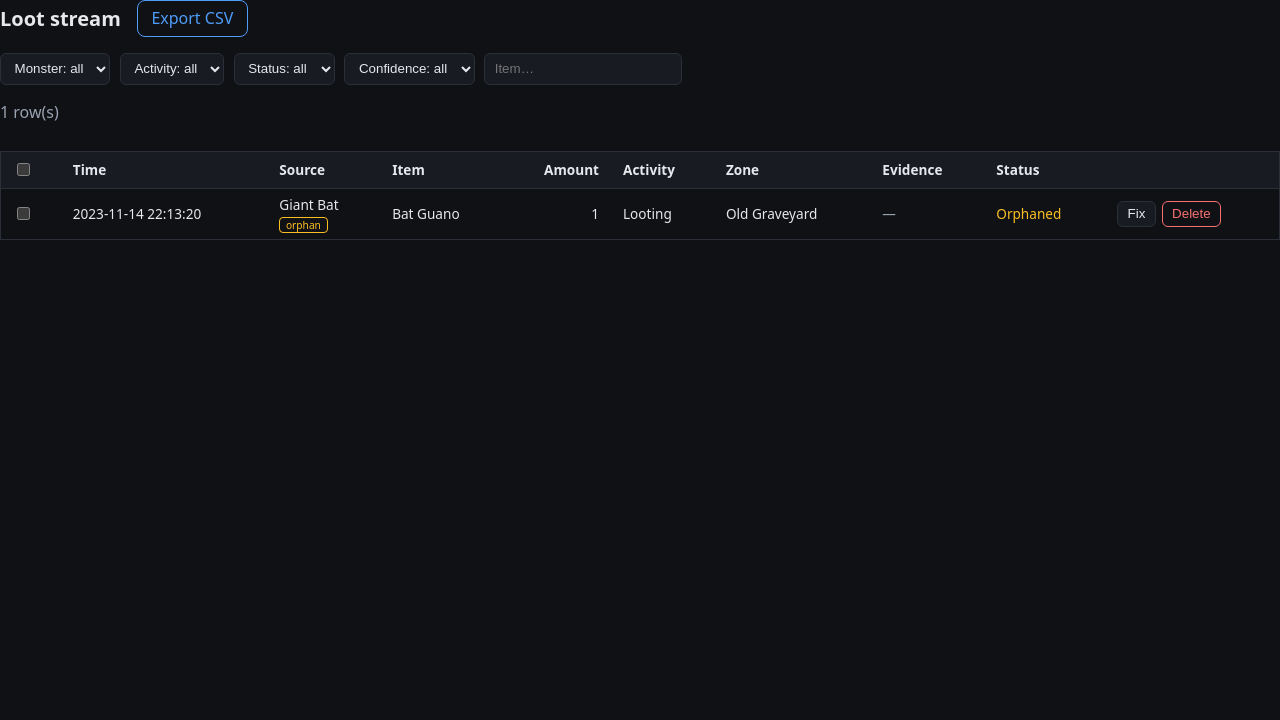
Test case: LootPage › deletes a single row after confirmation
The width and height of the screenshot is (1280, 720).
Expected: the text "Bat Guano" is shown, [380,188,504,240]
What coordinates should you click on to do the following:
click the button "Delete"
I would click on:
 (1191, 214)
Its box is [1162,201,1221,227].
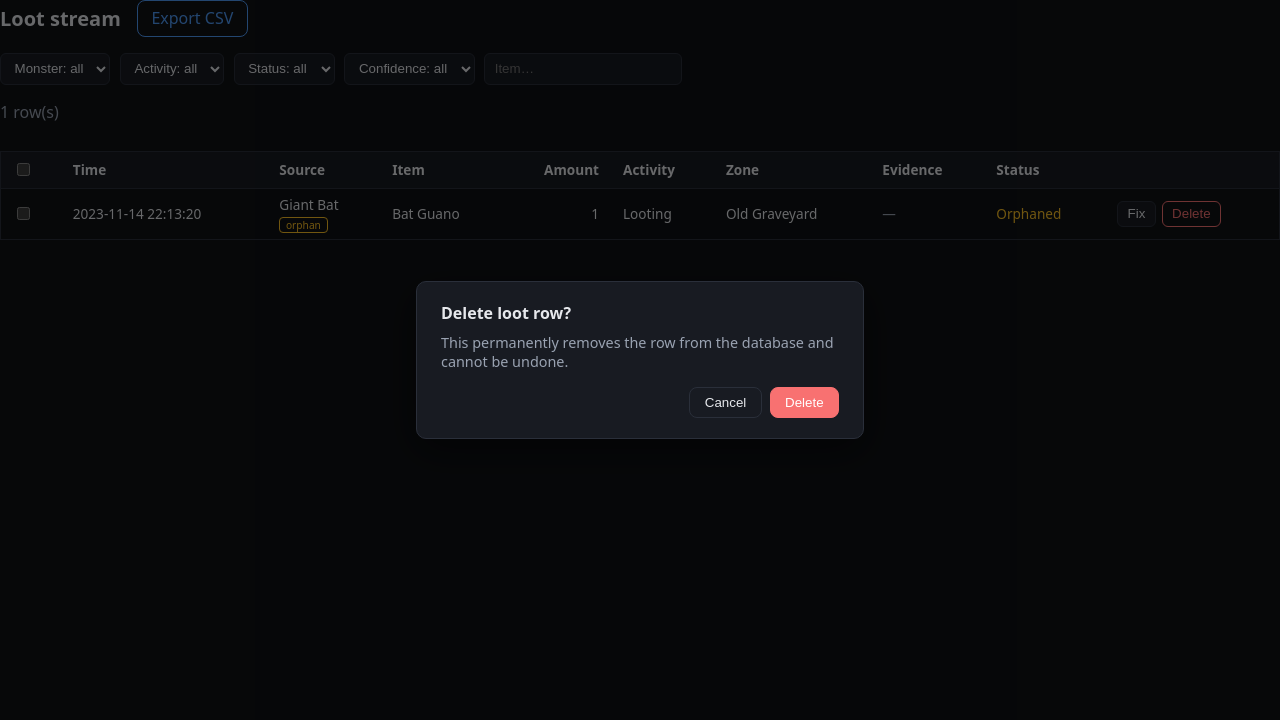
Now the heading "Delete loot row?" is shown, box [441,302,571,324]
What coordinates should you click on to do the following:
click the button "Delete"
I would click on:
 (804, 403)
Its box is [770,387,839,418].
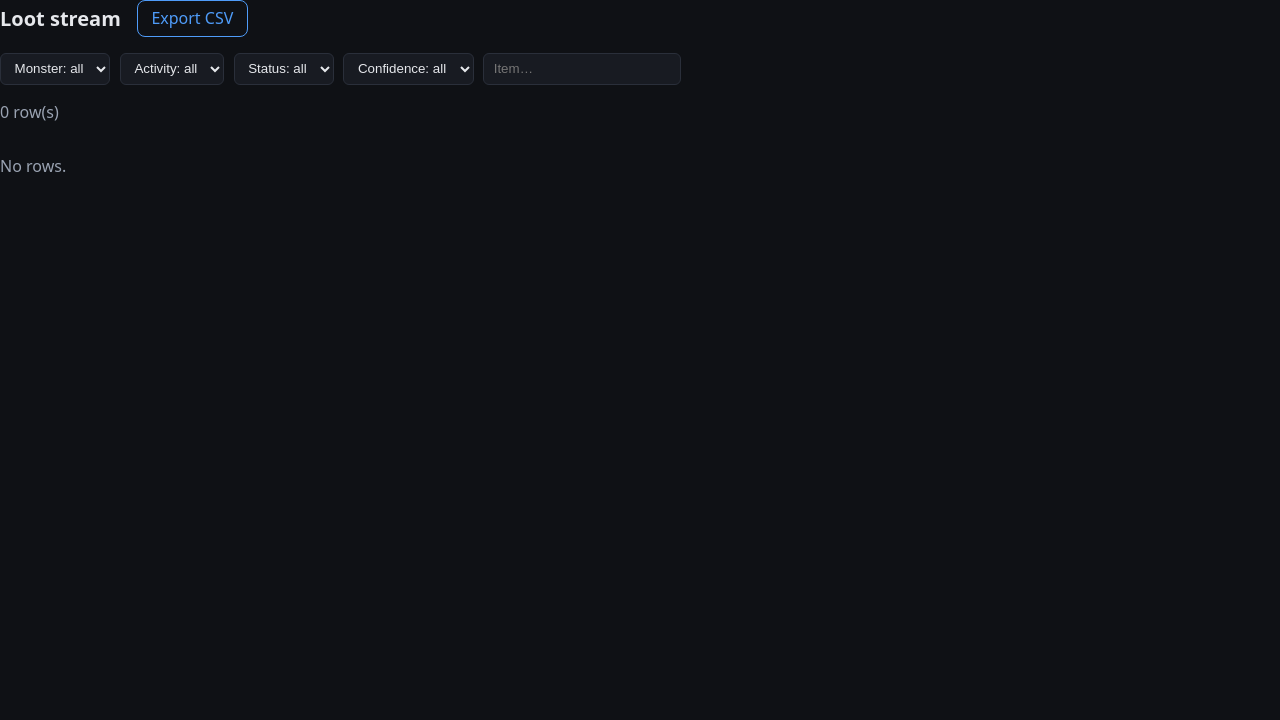
Now the text "Bat Guano" is gone
